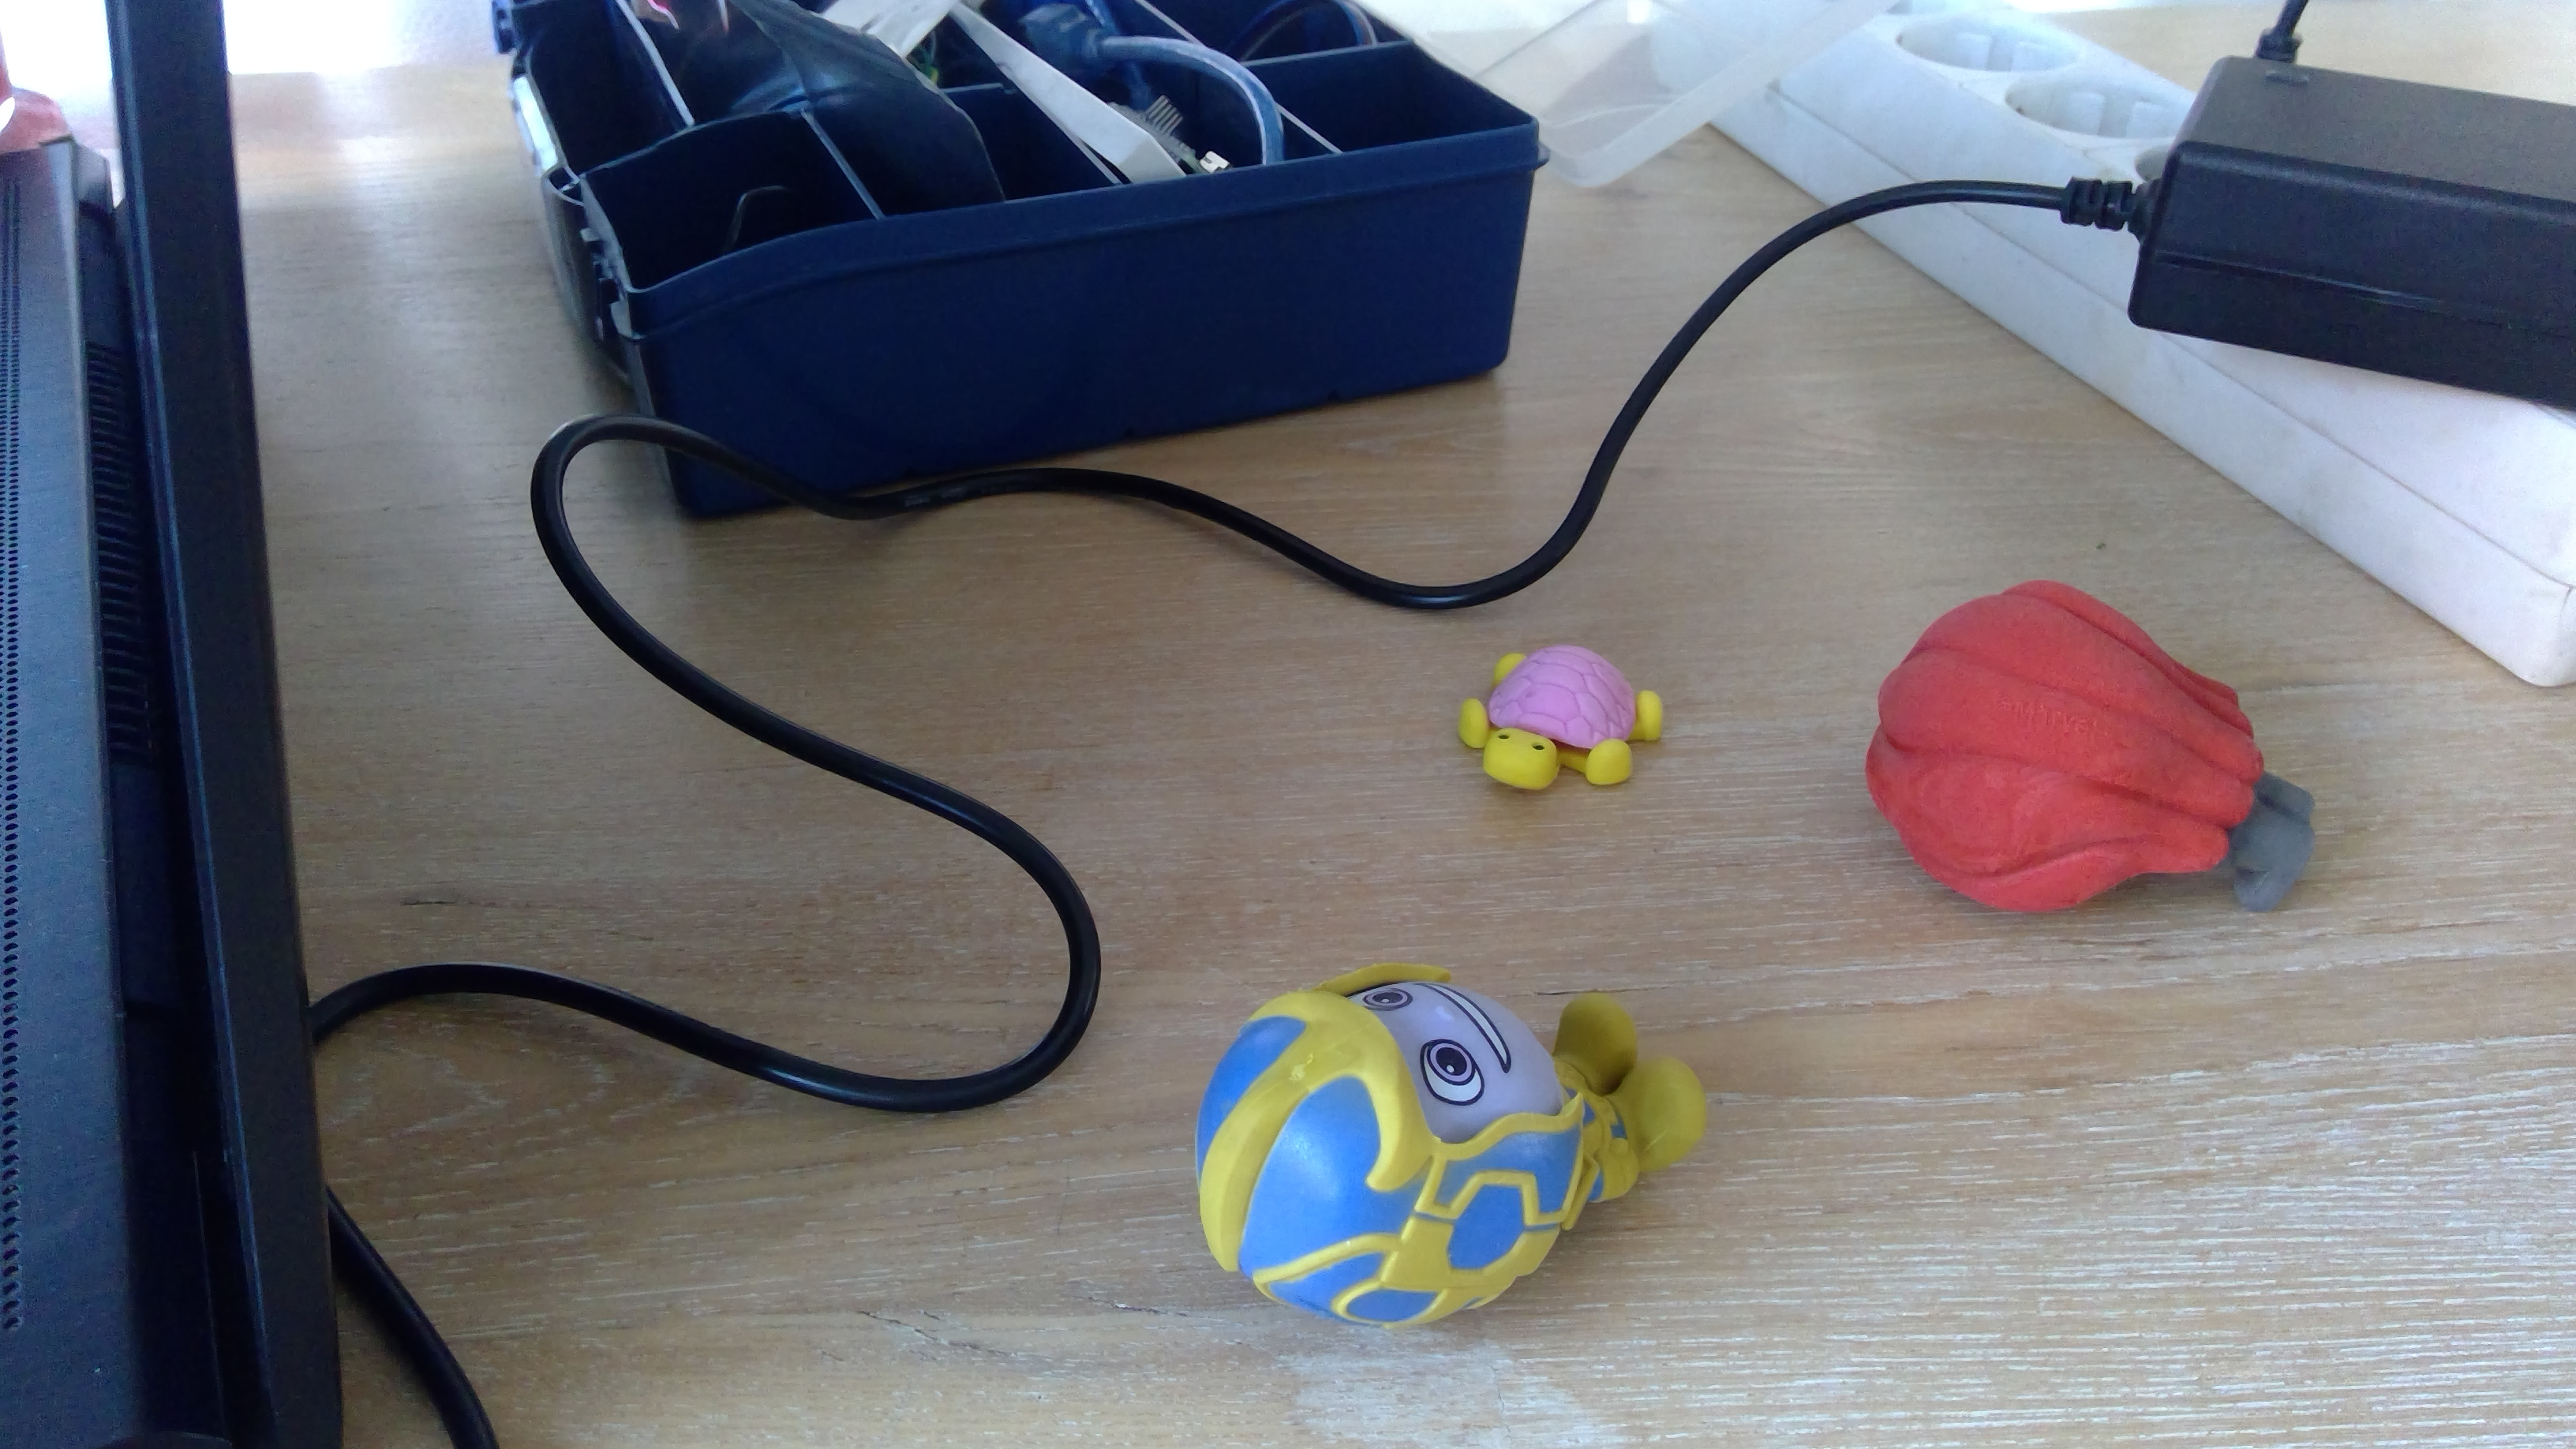schil: (1453, 642, 1667, 787)
spin: (1863, 577, 2318, 915)
thanos: (1175, 962, 1709, 1330)
